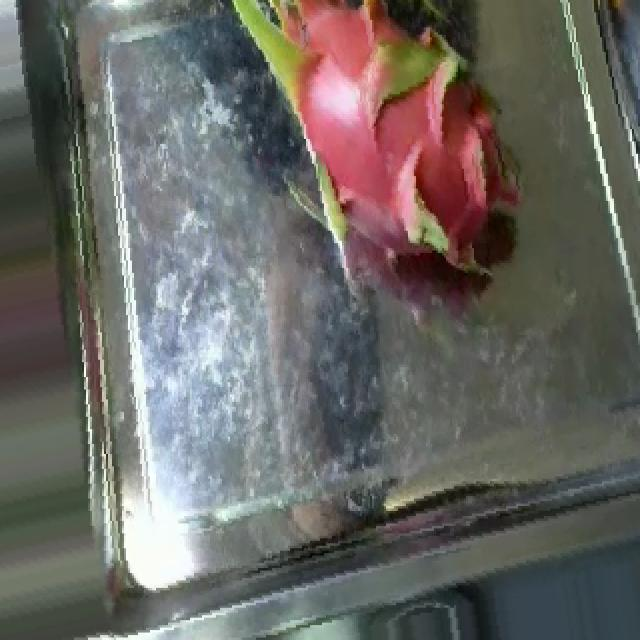fruit: (204, 0, 554, 332)
